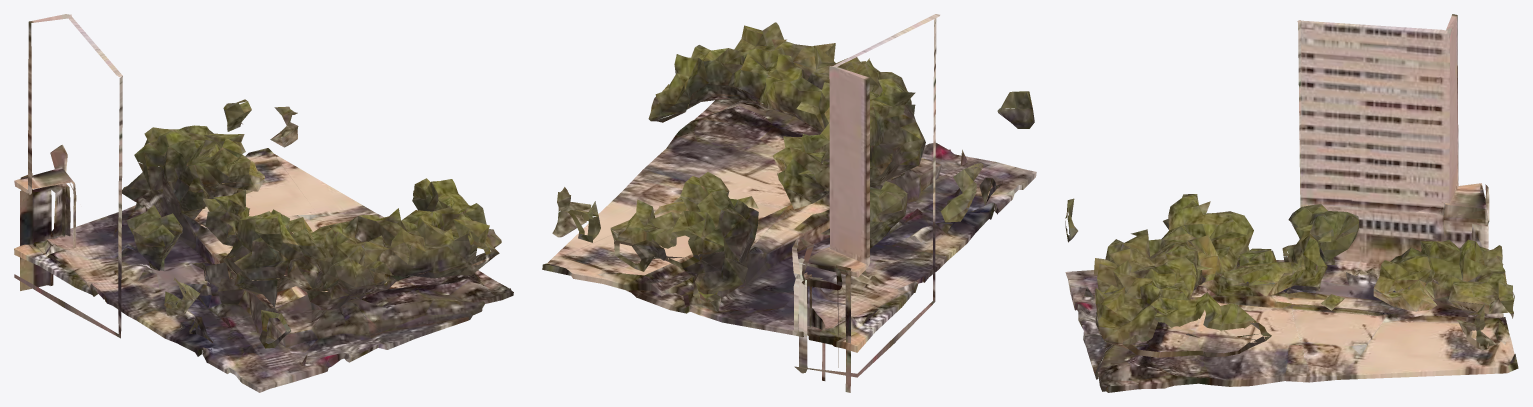
3 renders of one model, left to right at view 1: azimuth 30°, elevation 25°; view 2: azimuth 150°, elevation 25°; view 3: azimuth 270°, elevation 25°, orthographic. The views are drawn at different scales.
Visible parts, largest first — view 1: Mesh_0; view 2: Mesh_0; view 3: Mesh_0.
Part boxes in pixels (<box>): Mesh_0: <box>14,14,513,392</box>; Mesh_0: <box>542,14,1036,392</box>; Mesh_0: <box>1065,14,1518,392</box>.
Bounding box in the file's own units: 66.59 × 57.3 × 82.65.
1 material, 1 textured.
